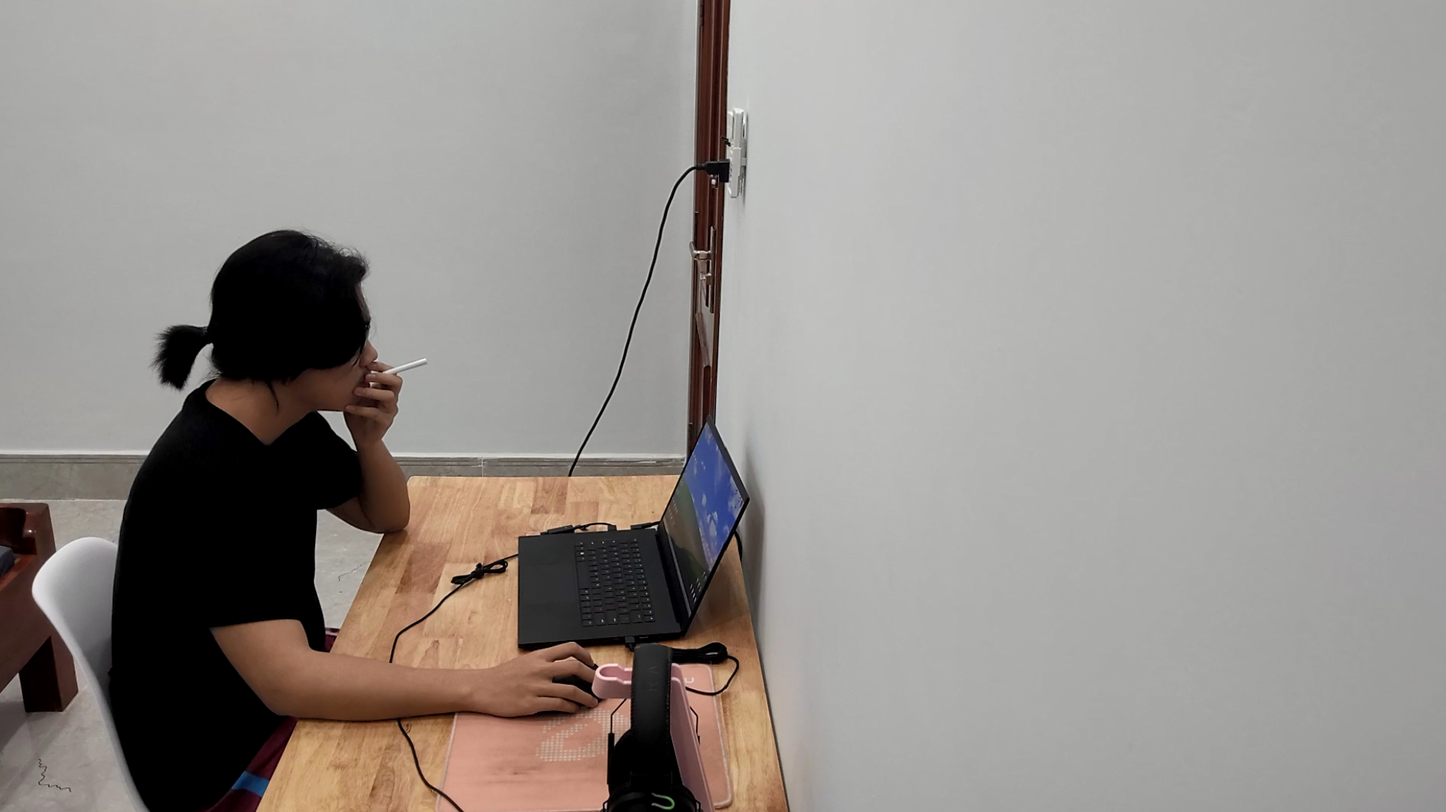cigarette: (369, 358, 441, 380)
person: (84, 189, 443, 812)
